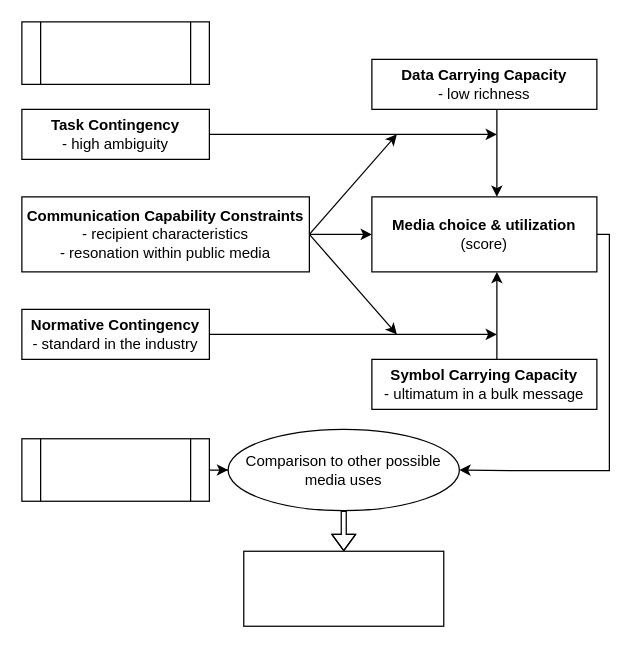
This 641x649 diagram has some shape labels left out. Here are the shapes that lost their labels. From the top down, the centre of each, then its label:
At [115,52]: "Used solution".
At [115,469]: "Personalized message (score)".
At [343,588]: "Inadequate media choice & utilization".
